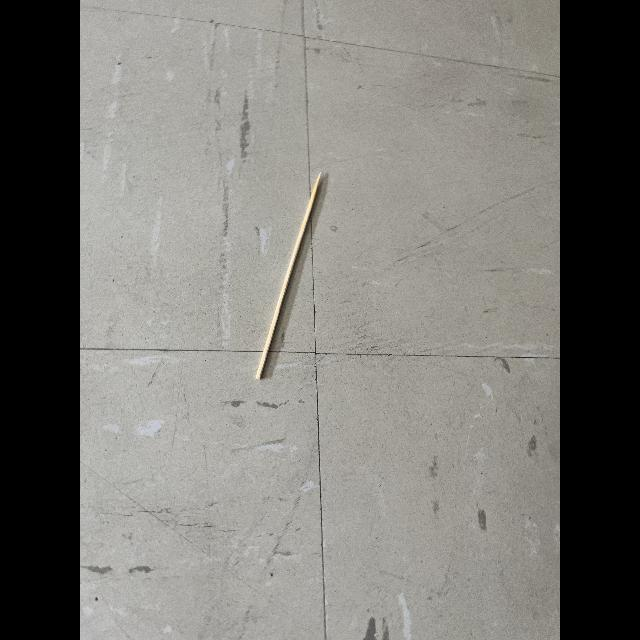stick: (230, 160, 350, 398)
